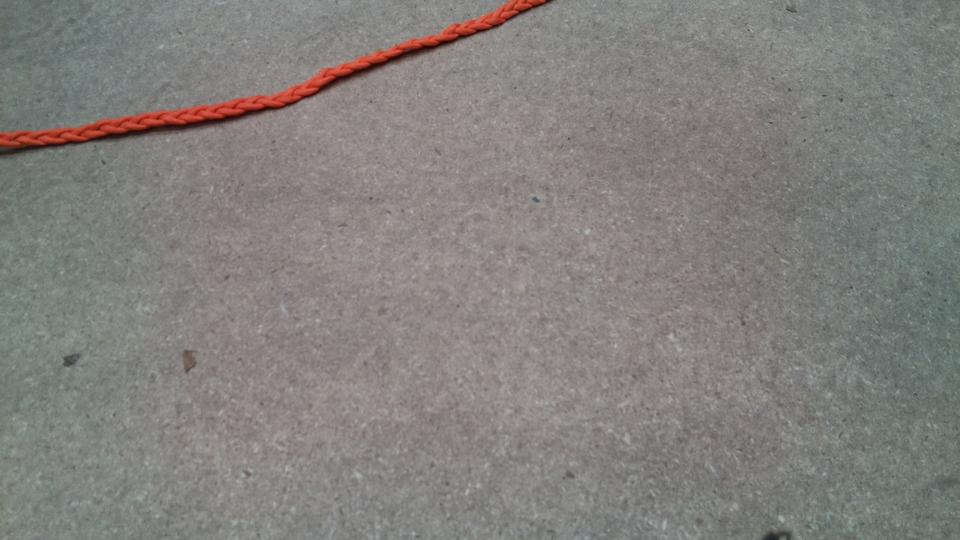rope: (1, 1, 521, 156)
